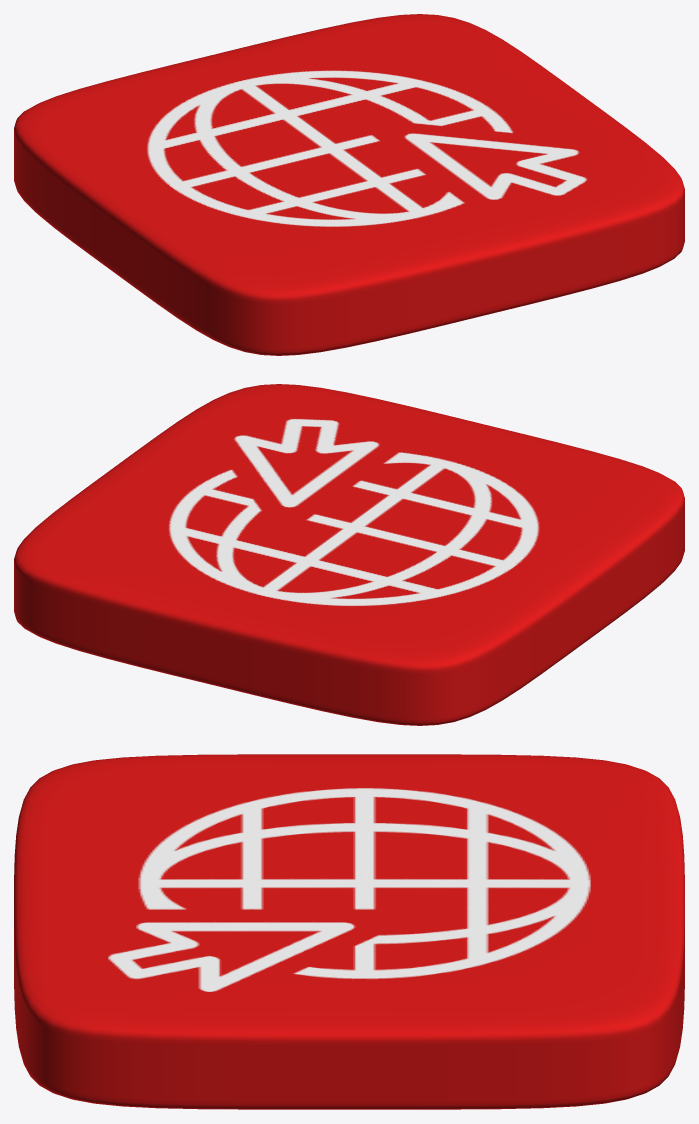
Rendered from website.new.glb.
3 views of the same model, one above another, from view 1: azimuth 30°, elevation 25°; view 2: azimuth 150°, elevation 25°; view 3: azimuth 270°, elevation 25° (orthographic). The views are drawn at different scales.
Visible parts, largest first — view 1: pCube1; view 2: pCube1; view 3: pCube1.
Boxes of the visible parts, x1,y1,x2,y2 form: pCube1: (14,14,684,355); pCube1: (14,384,684,725); pCube1: (14,754,684,1109).
Bounding box in the file's own units: 0.0117 × 0.00164 × 0.0118.
1 material, 1 textured.
